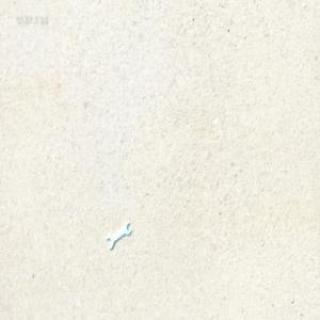Wrenchtrack_idkeyframe: (106, 218, 131, 248)
